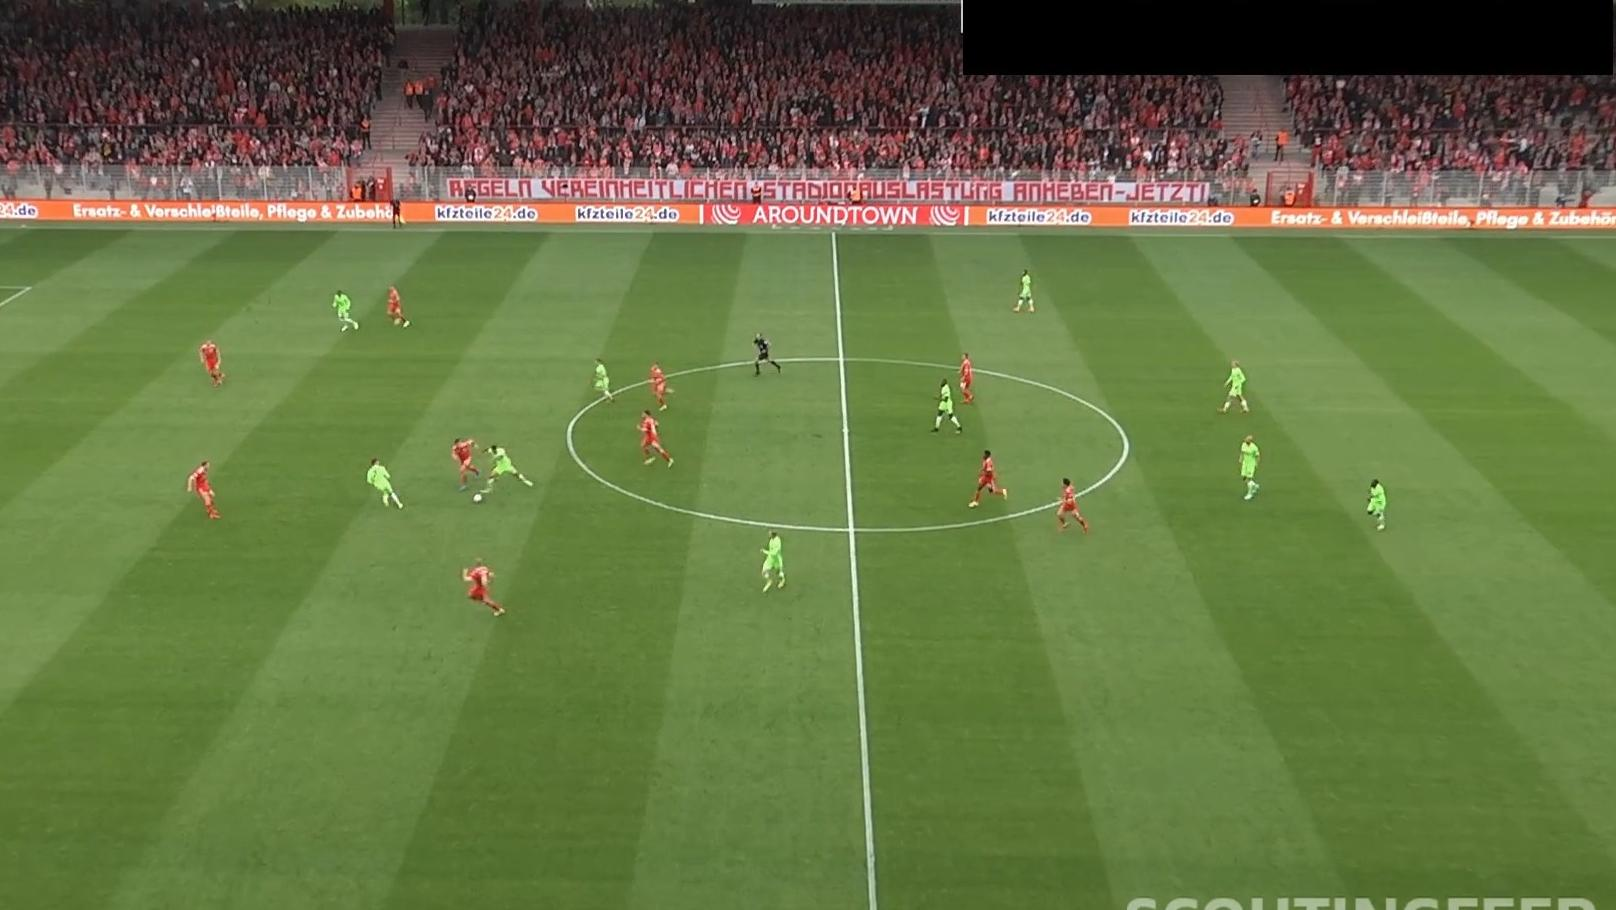ball: (473, 492, 483, 504)
